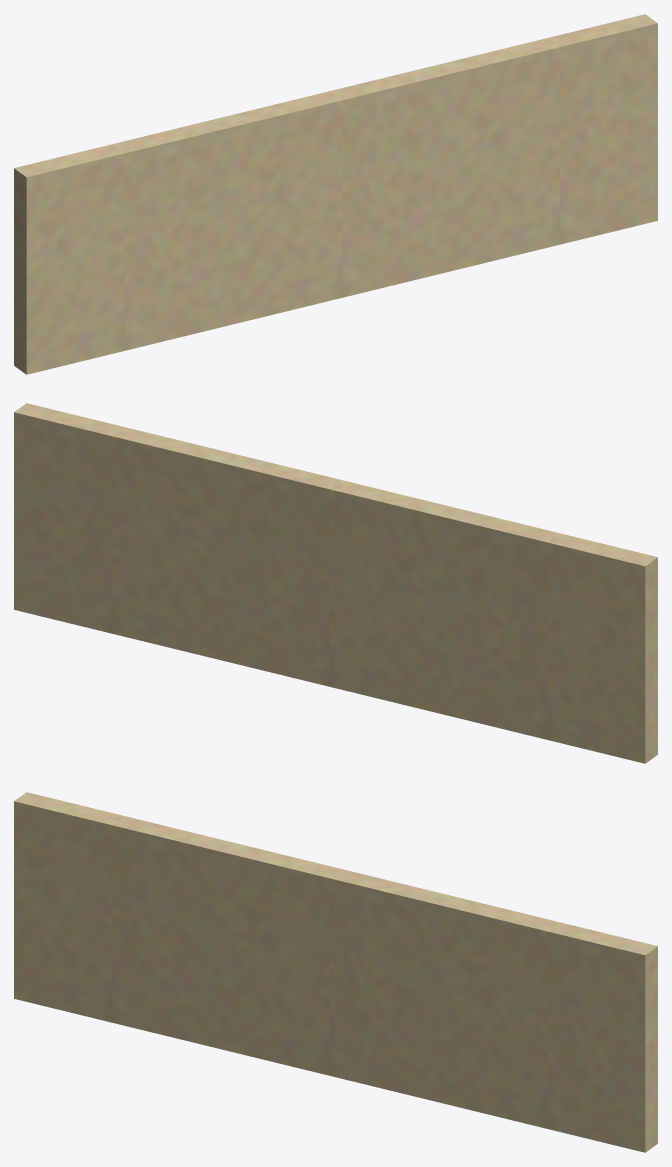
File: SM_HH_V2_Walls_Far.fbx
3 views of the same model, one above another, from view 1: azimuth 30°, elevation 25°; view 2: azimuth 150°, elevation 25°; view 3: azimuth 330°, elevation 25° (orthographic).
Parts seen in each view (by area): view 1: HH_V2_Walls_Far; view 2: HH_V2_Walls_Far; view 3: HH_V2_Walls_Far.
Boxes of the visible parts, box(x1,y1,x2,y2) form: HH_V2_Walls_Far: box(14, 14, 657, 374); HH_V2_Walls_Far: box(14, 403, 657, 763); HH_V2_Walls_Far: box(14, 792, 657, 1152).
Bounding box in the file's own units: 0.3 × 8.7 × 2.6.
